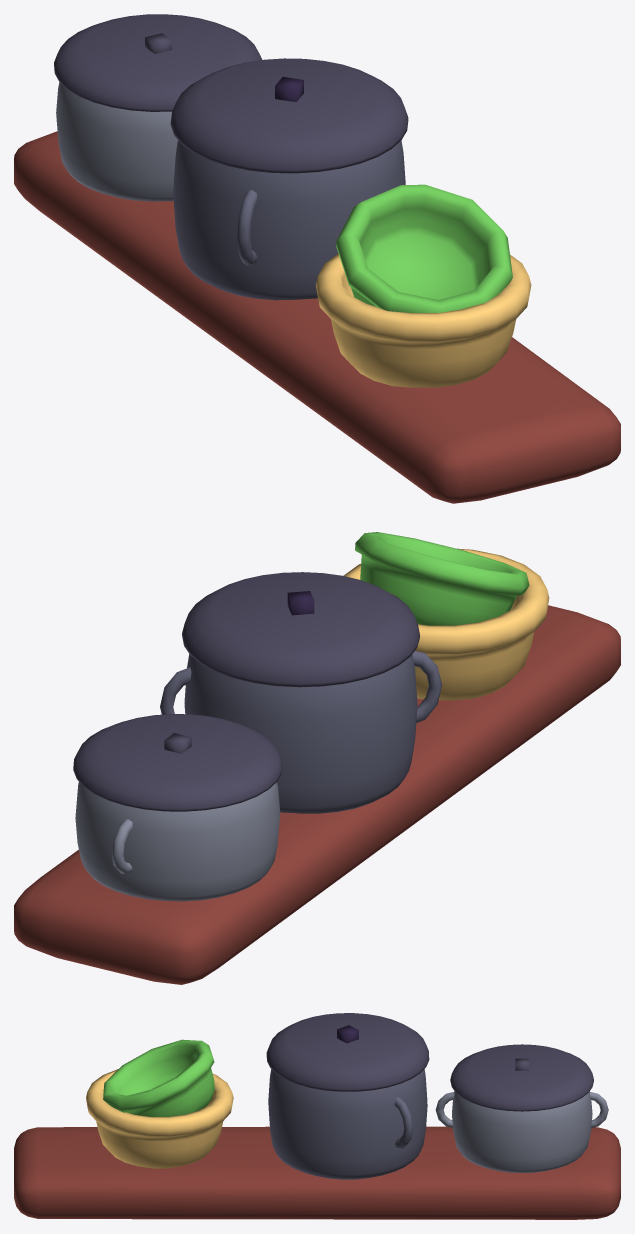
File: Wallslot_02_CC.glb
3 renders of one model, top to bottom at view 1: azimuth 30°, elevation 25°; view 2: azimuth 150°, elevation 25°; view 3: azimuth 270°, elevation 25°, orthographic. The views are drawn at different scales.
Visible parts, largest first — view 1: Wallslot_02_CC; view 2: Wallslot_02_CC; view 3: Wallslot_02_CC.
Part boxes in pixels (x1,y1,x2,y2): Wallslot_02_CC: (14,14,620,503); Wallslot_02_CC: (14,532,620,984); Wallslot_02_CC: (14,1013,620,1219).
Bounding box in the file's own units: 0.164 × 0.1842 × 0.6126.
Materials: 1 (1 with a texture image).
